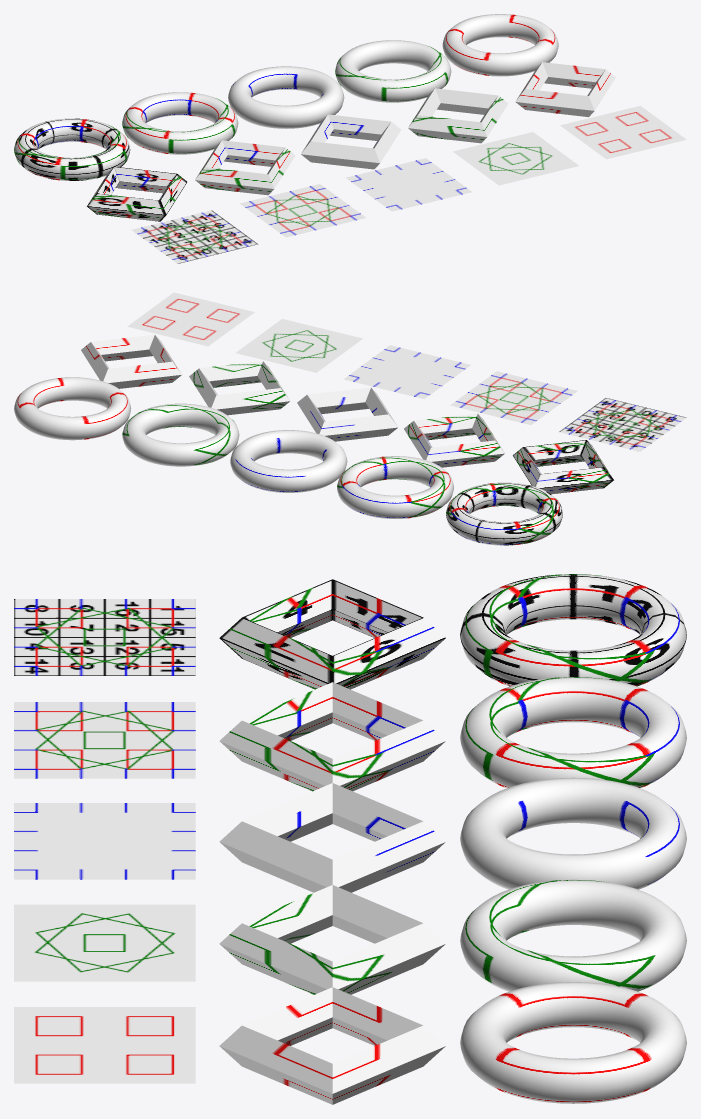
The model's file is CarreMagique.glb.
The picture shows the model from 3 angles, top to bottom: view 1: azimuth 30°, elevation 25°; view 2: azimuth 150°, elevation 25°; view 3: azimuth 270°, elevation 25°; orthographic projection. The views are drawn at different scales.
Parts seen in each view (by area): view 1: Torus.002, Torus.009, Torus.007, Torus.005, Torus.011, Plane.001, Plane.003, Plane.005, Plane.002, Plane.004, Torus.001, Torus.010 (+3 smaller); view 2: Torus.005, Torus.009, Torus.011, Torus.002, Torus.007, Plane.002, Plane.003, Plane.004, Plane.001, Plane.005, Torus.001, Torus.006 (+3 smaller); view 3: Torus.002, Torus.011, Torus.005, Torus.007, Torus.009, Plane.002, Torus.001, Plane.001, Plane.003, Plane.004, Plane.005, Torus.010 (+3 smaller).
Boxes of the visible parts, x1,y1,x2,y2 form: Torus.002: [442, 14, 558, 76]; Torus.009: [122, 92, 238, 154]; Torus.007: [228, 66, 344, 128]; Torus.005: [335, 40, 451, 102]; Torus.011: [14, 118, 130, 180]; Plane.001: [560, 105, 686, 159]; Plane.003: [346, 158, 471, 211]; Plane.005: [132, 210, 257, 263]; Plane.002: [453, 132, 578, 185]; Plane.004: [240, 184, 365, 237]; Torus.001: [515, 62, 615, 117]; Torus.010: [87, 166, 186, 221]; Torus.005: [122, 403, 239, 466]; Torus.009: [337, 456, 453, 518]; Torus.011: [446, 482, 562, 545]; Torus.002: [14, 377, 131, 440]; Torus.007: [230, 430, 347, 492]; Plane.002: [235, 319, 362, 372]; Plane.003: [343, 345, 470, 399]; Plane.004: [450, 371, 577, 424]; Plane.001: [127, 292, 254, 346]; Plane.005: [559, 398, 686, 451]; Torus.001: [81, 334, 181, 388]; Torus.006: [297, 387, 398, 441]; Torus.002: [460, 982, 686, 1103]; Torus.011: [460, 574, 686, 686]; Torus.005: [460, 879, 686, 991]; Torus.007: [460, 777, 686, 889]; Torus.009: [460, 677, 686, 788]; Plane.002: [14, 904, 195, 981]; Torus.001: [219, 987, 445, 1104]; Plane.001: [14, 1007, 195, 1083]; Plane.003: [14, 803, 195, 879]; Plane.004: [14, 702, 195, 778]; Plane.005: [14, 599, 195, 675]; Torus.010: [219, 579, 445, 689].
Size of the model in its own units: 13.22 by 0.5001 by 7.42.
Materials: 5 (5 with a texture image).
